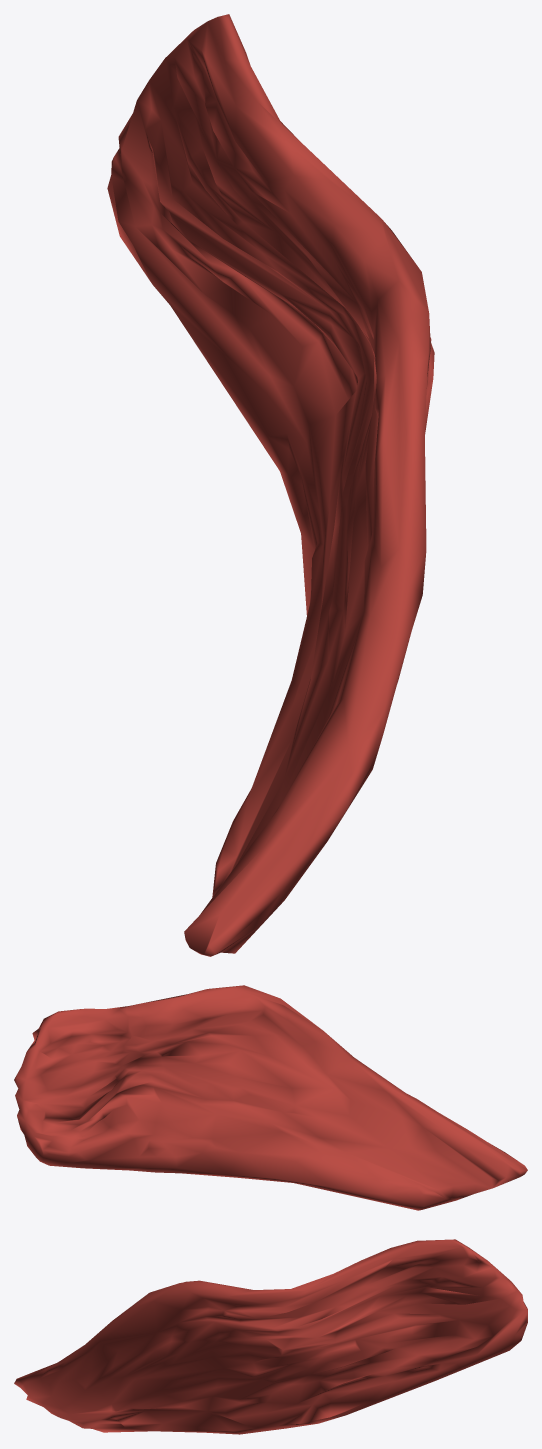
Rendered from musculos-oblique-part-of-cricothyroid-muscle-l.glb.
The picture shows the model from 3 angles, top to bottom: view 1: azimuth 30°, elevation 25°; view 2: azimuth 150°, elevation 25°; view 3: azimuth 270°, elevation 25°; orthographic projection. The views are drawn at different scales.
Visible parts, largest first — view 1: Oblique part of cricothyroid muscle.l; view 2: Oblique part of cricothyroid muscle.l; view 3: Oblique part of cricothyroid muscle.l.
Boxes of the visible parts, x1,y1,x2,y2 form: Oblique part of cricothyroid muscle.l: (107,14,434,956); Oblique part of cricothyroid muscle.l: (14,985,527,1210); Oblique part of cricothyroid muscle.l: (14,1239,527,1434).
Bounding box in the file's own units: 0.00884 × 0.00928 × 0.0158.
